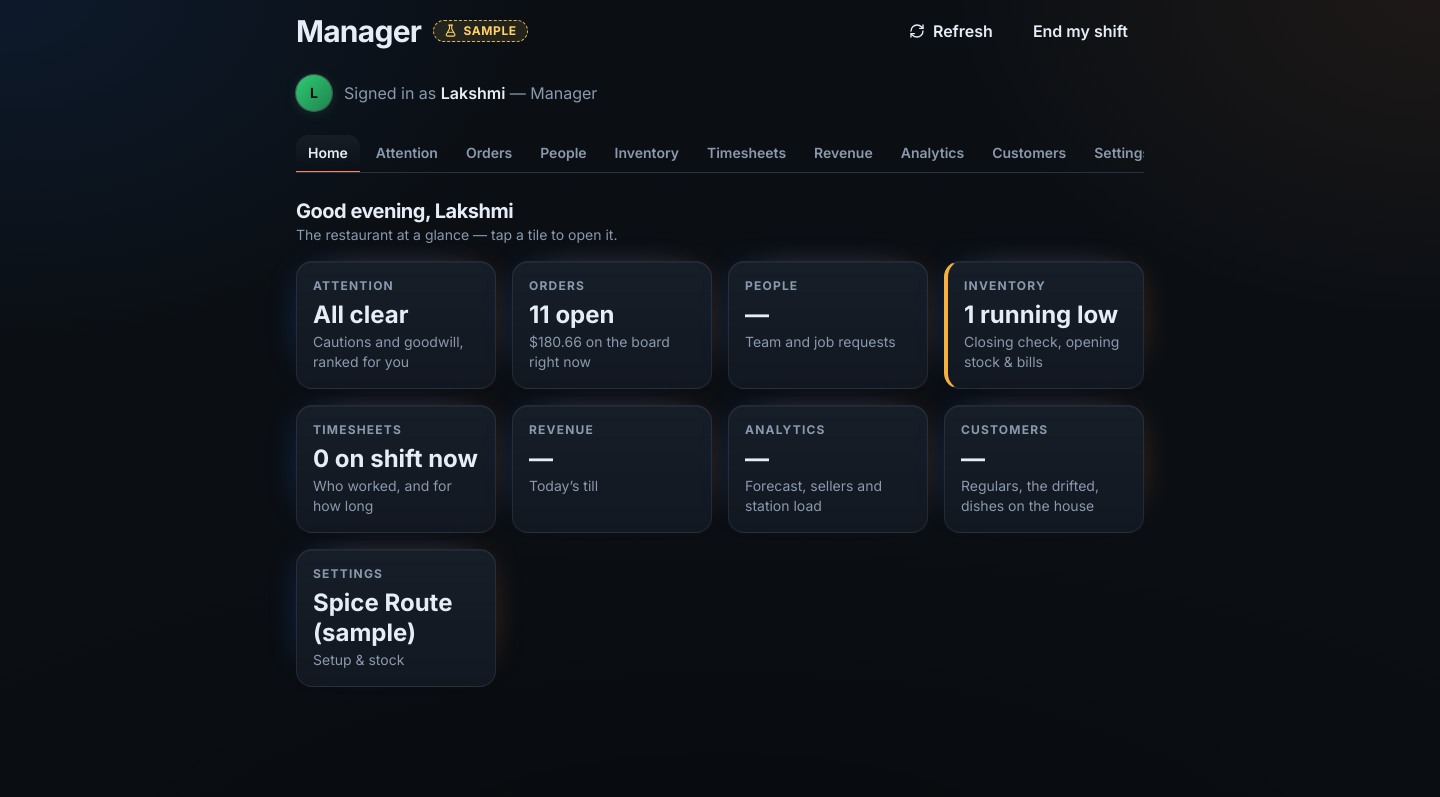
Test: stock_card_86_takes_every_blocked_dish_off_the_menu
The image size is (1440, 797).
Click the tab "Attention" at (407, 154), box [364,135,450,173]
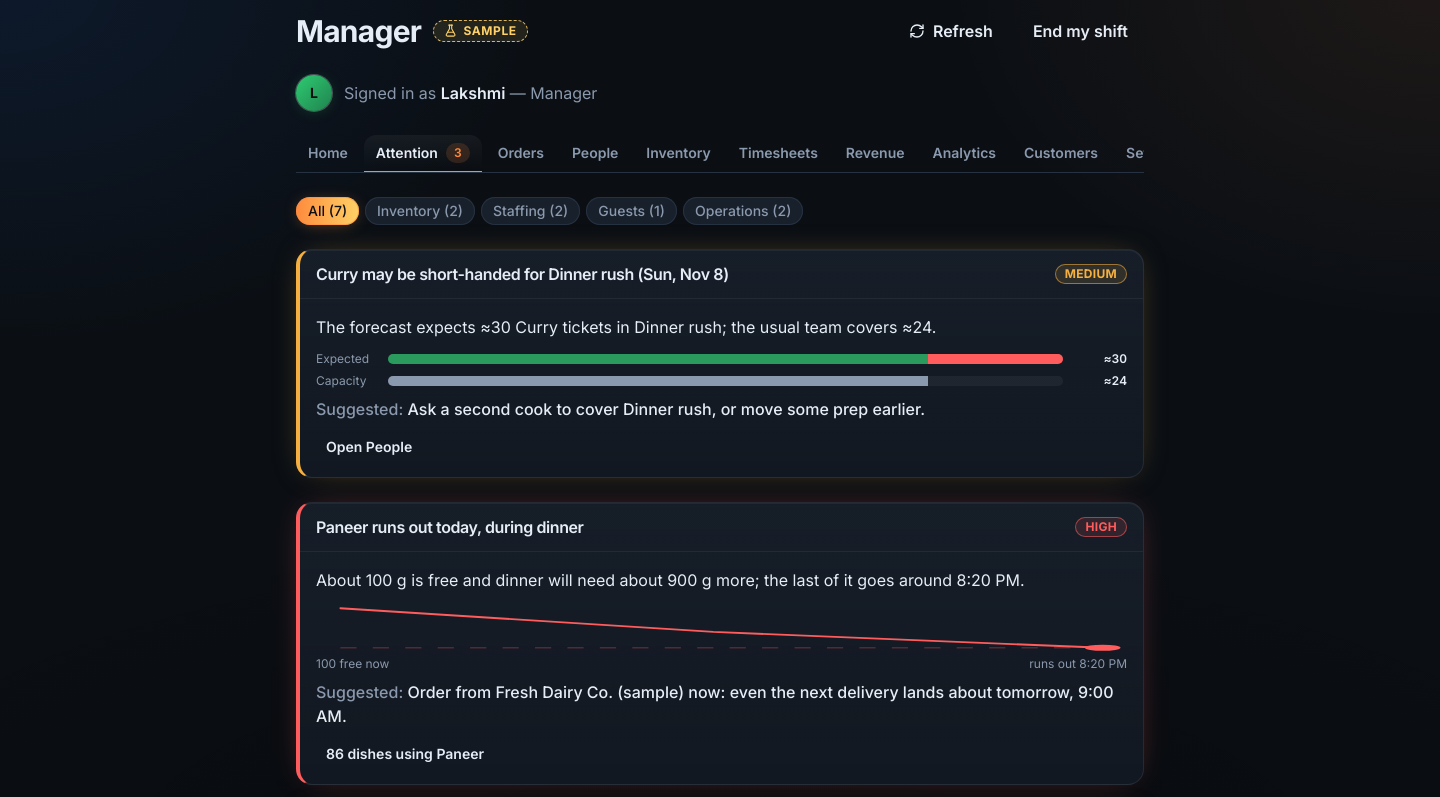
Click the button "86 dishes using Paneer" at (405, 754), box [316,740,494,768]
(page scrolled)
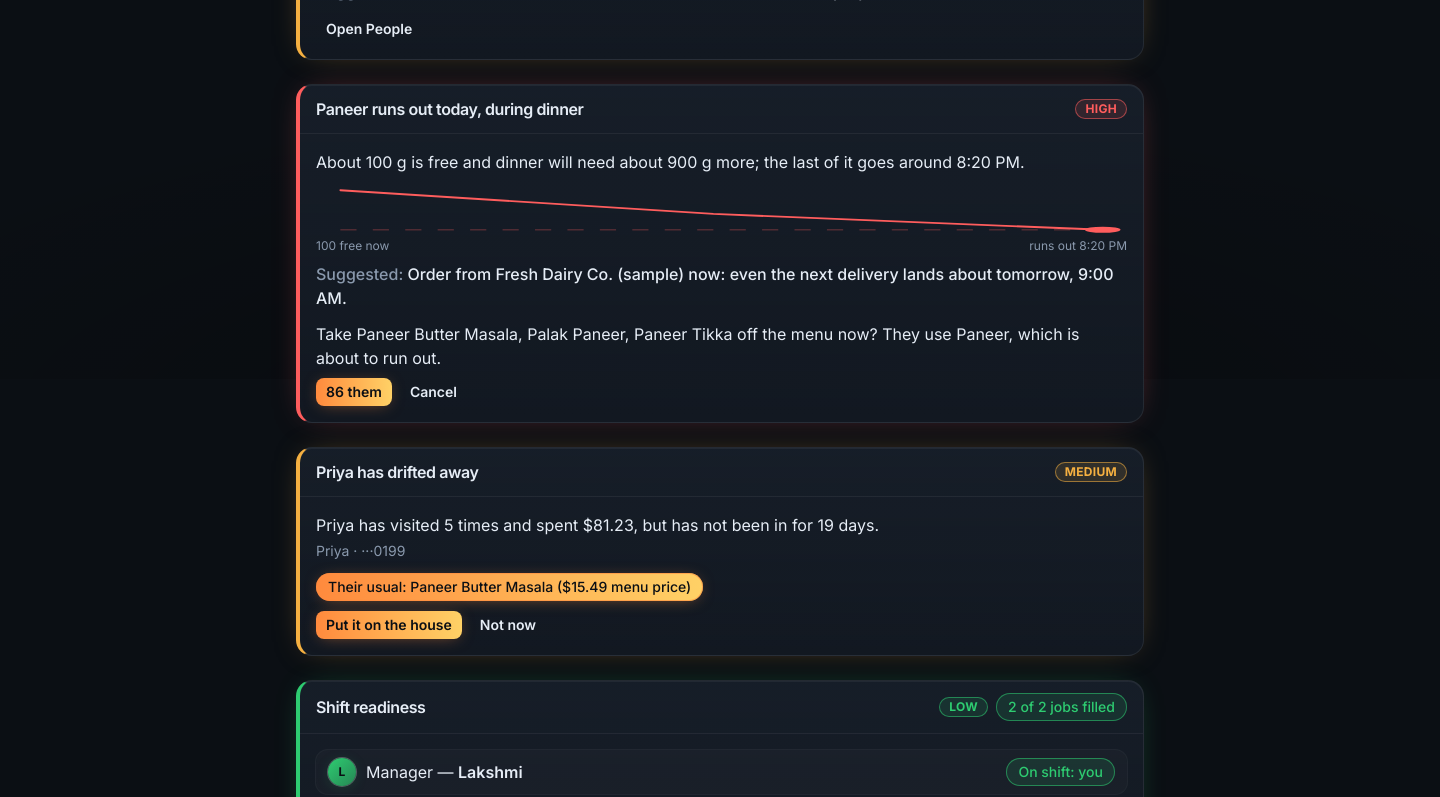
expect the text "Take Paneer Butter Masala, Palak Paneer, Paneer Tikka off the menu now" is shown: met, box [316,322,1127,370]
Click the button "86 them" at (354, 392), box [316,378,392,406]
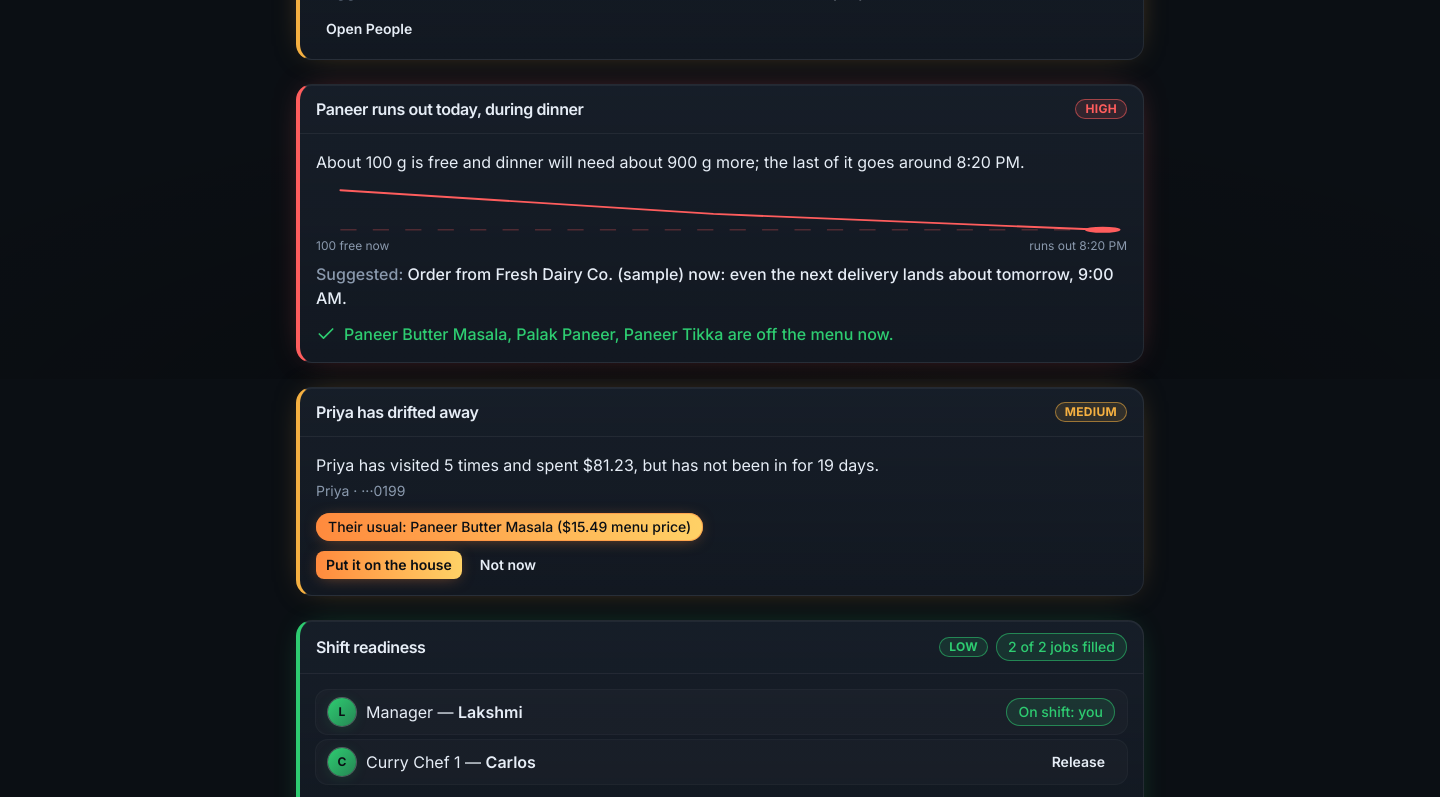
expect the text "off the menu now" is shown: met, box [752,324,894,344]
